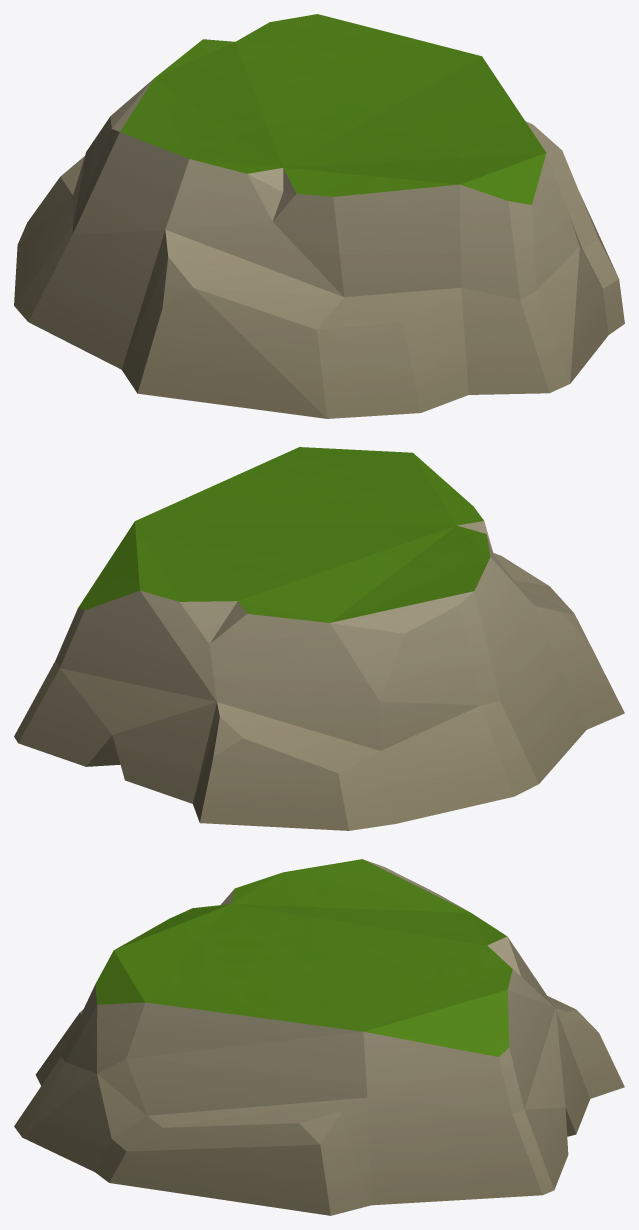
File: RockGrass_03.fbx
3 views of the same model, one above another, from view 1: azimuth 30°, elevation 25°; view 2: azimuth 150°, elevation 25°; view 3: azimuth 270°, elevation 25° (orthographic). The views are drawn at different scales.
Visible parts, largest first — view 1: RockGrass_03; view 2: RockGrass_03; view 3: RockGrass_03.
Boxes of the visible parts, bbox=[...] form: RockGrass_03: bbox=[14, 14, 624, 418]; RockGrass_03: bbox=[14, 447, 624, 830]; RockGrass_03: bbox=[14, 859, 624, 1215].
Bounding box in the file's own units: 327 × 107 × 367.
